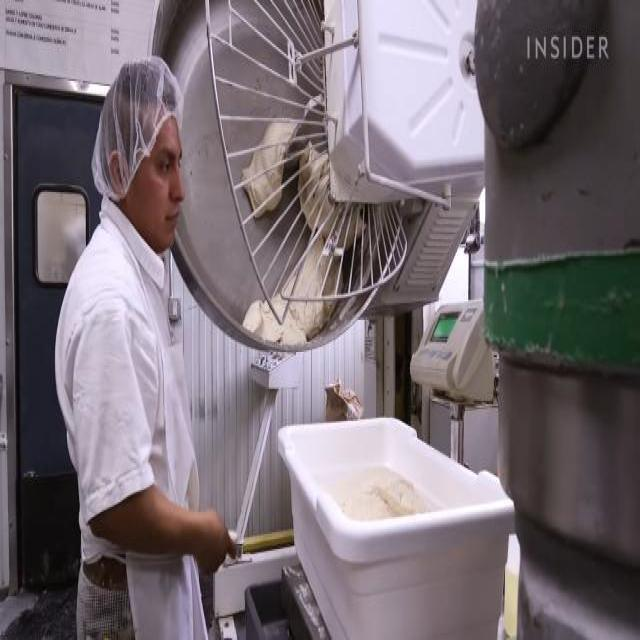bare_hand: (177, 482, 248, 586)
